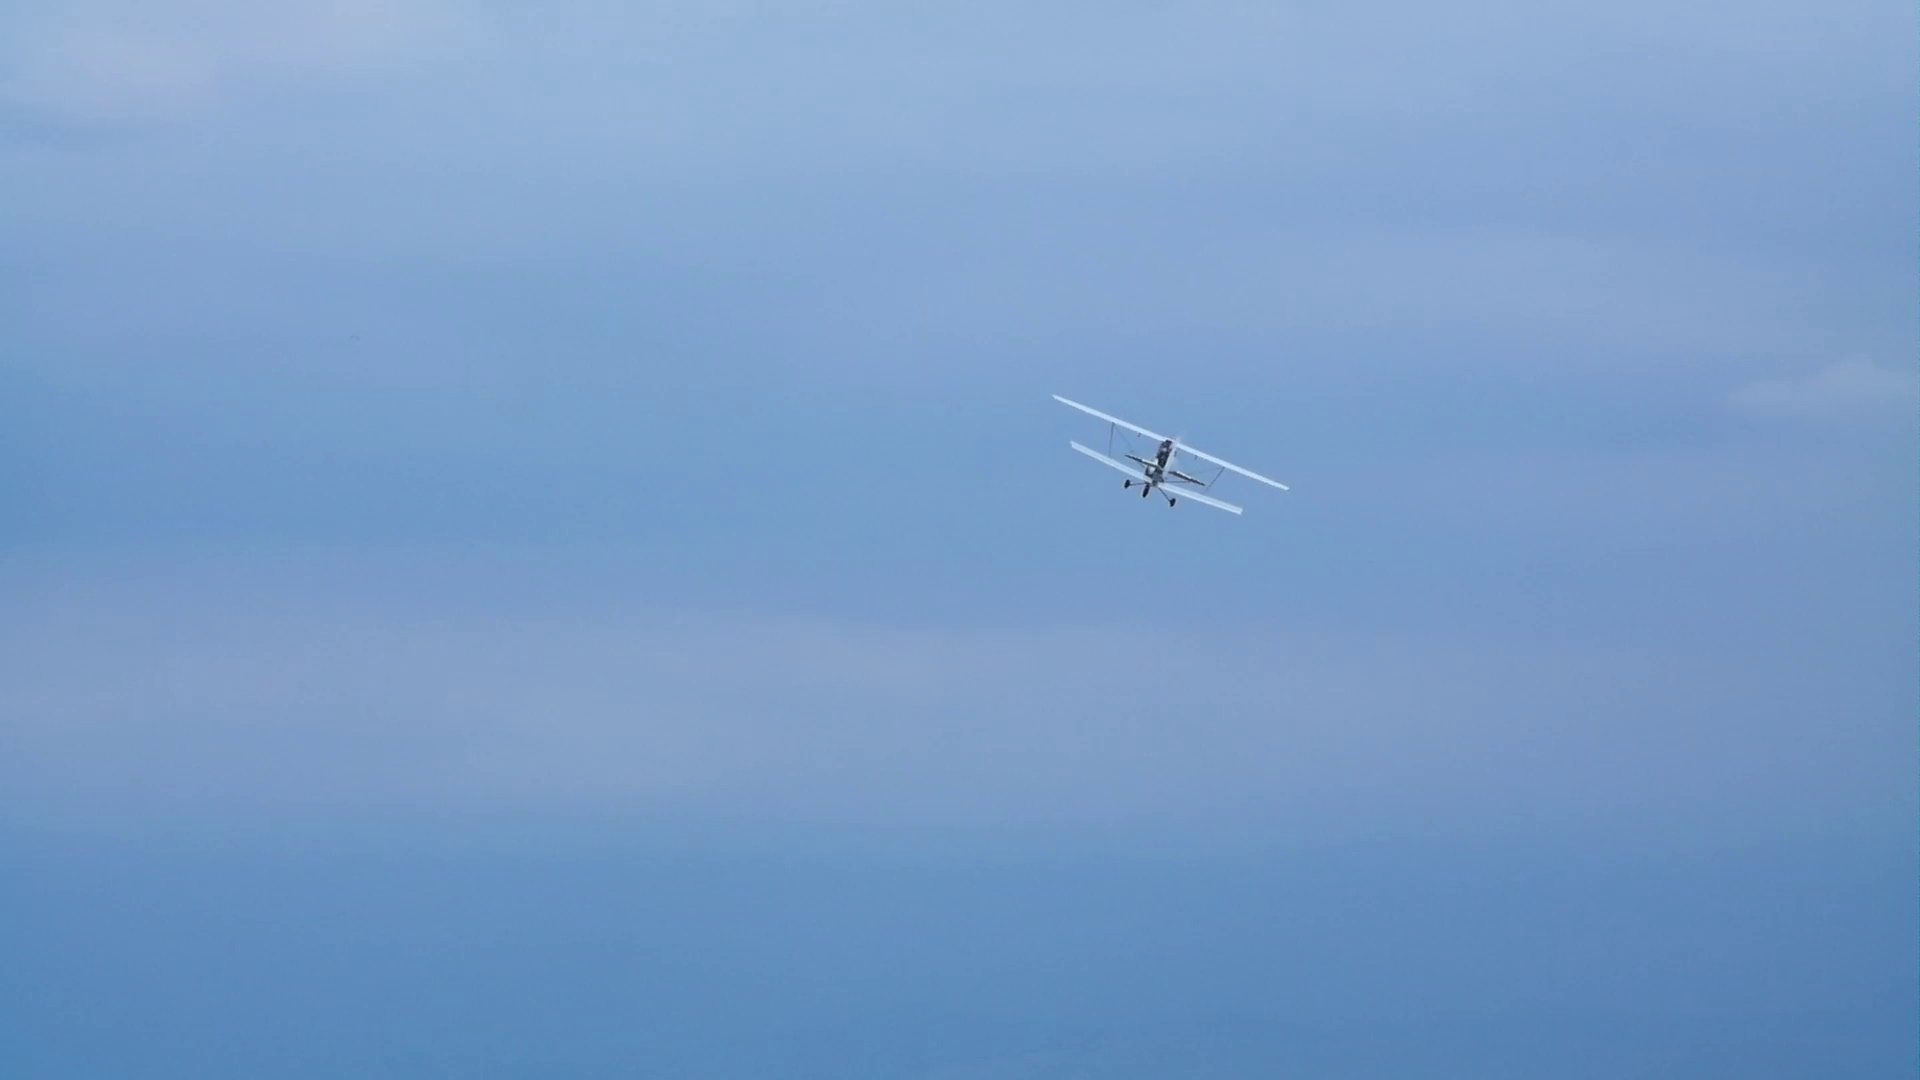plane: (1054, 393, 1291, 516)
